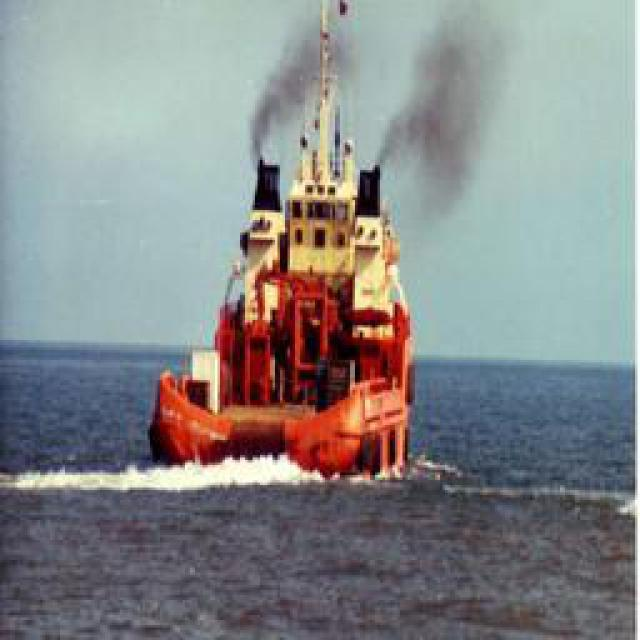Ship: (166, 52, 419, 482)
